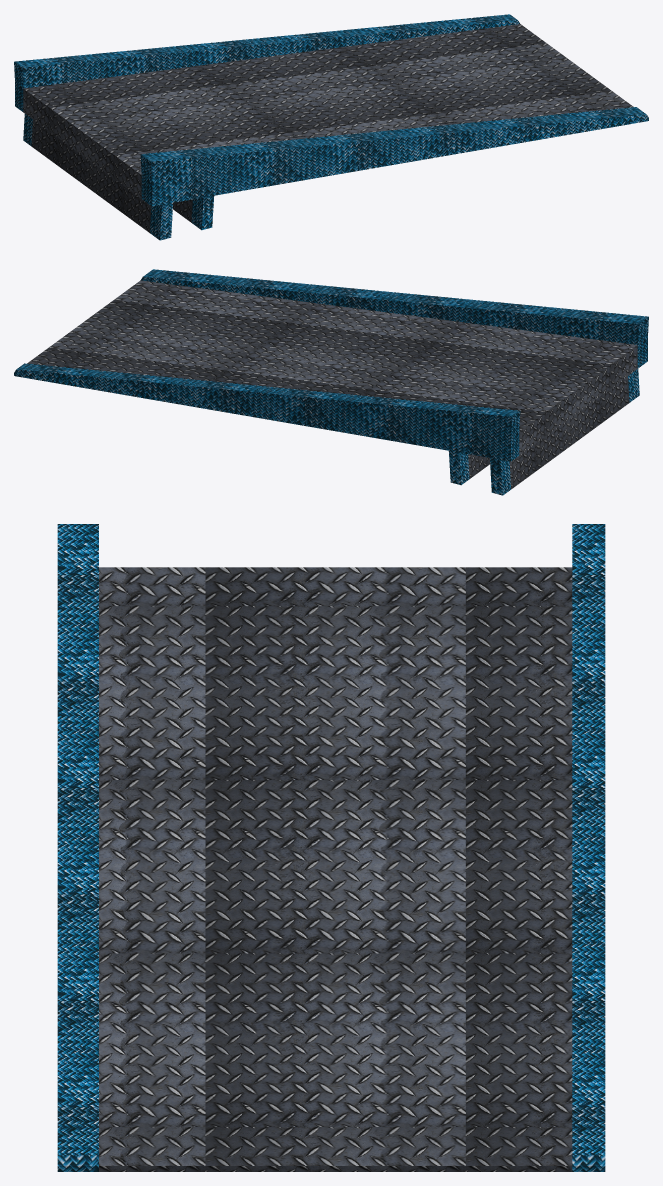
File: Forklift Ramp.FBX
3 views of the same model, one above another, from view 1: azimuth 30°, elevation 25°; view 2: azimuth 150°, elevation 25°; view 3: azimuth 270°, elevation 25° (orthographic). The views are drawn at different scales.
Parts seen in each view (by area): view 1: Forklift Ramp; view 2: Forklift Ramp; view 3: Forklift Ramp.
Boxes of the visible parts, x1,y1,x2,y2 form: Forklift Ramp: [14, 14, 648, 240]; Forklift Ramp: [14, 269, 648, 495]; Forklift Ramp: [57, 524, 605, 1171].
Size of the model in its own units: 107 by 16.69 by 51.01.
2 materials, 2 textured.
